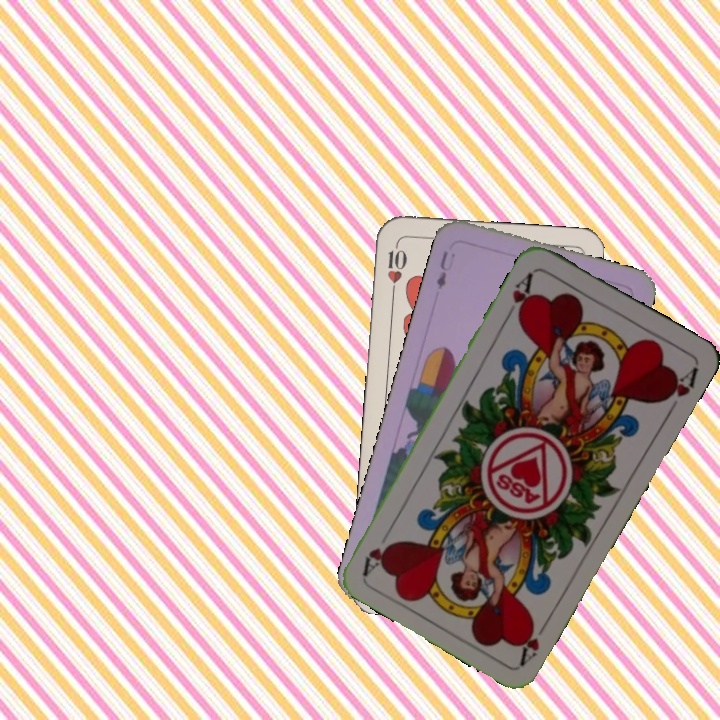EU: (432, 246, 458, 292)
H10: (383, 239, 409, 298)
HA: (514, 613, 553, 667), (502, 268, 536, 323)
